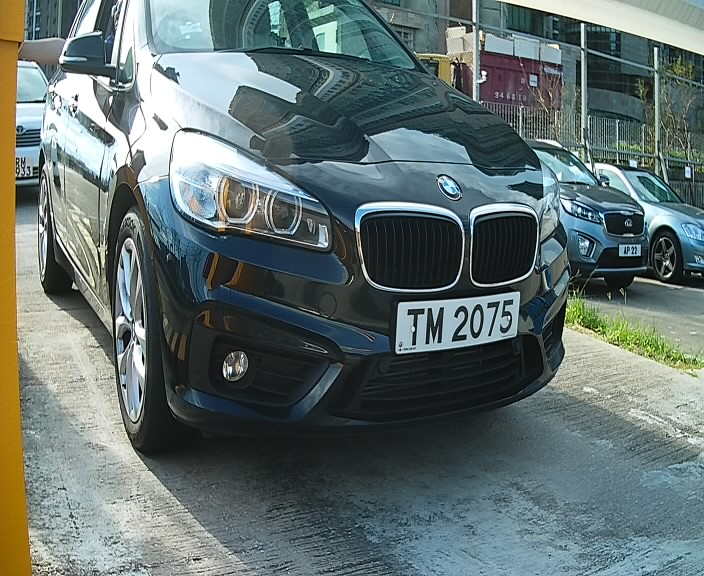Car: (68, 2, 594, 496)
License Plate: (387, 289, 528, 364)
